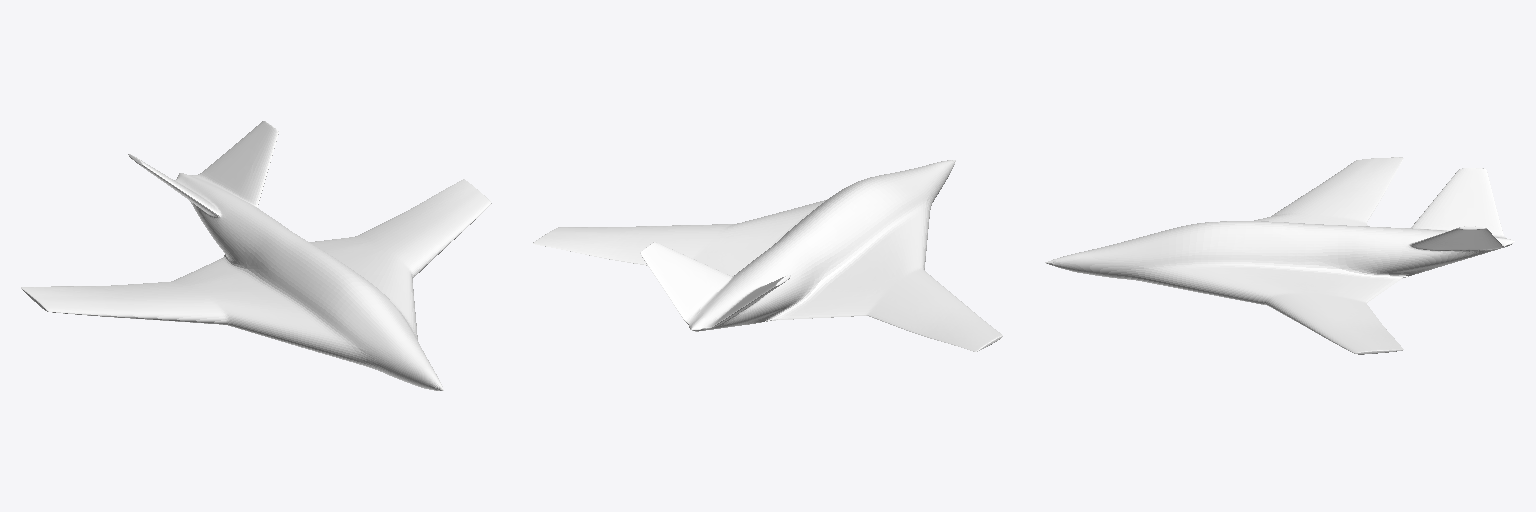
URDF robot description (mav):
<?xml version="1.0"?>
<robot name="mav">

  <material name="white">
    <color rgba="1.0 1.0 1.0 1"/>
  </material>

  <material name="blue">
    <color rgba="0.0 0.0 0.8 1"/>
  </material>

  <link name="base_link">
    <visual>
      <geometry>
        <mesh filename="package://mav_description/meshes/mav.stl" scale=".05 .05 .05"/>
      </geometry>
      <origin xyz="0.0 -.15 0.0"/>
      <material name="white"/>
    </visual>
  </link>

</robot>

--- Facts derived from the render (not from the file) ---
3 views of the same robot in one strip: view 1: azimuth 30°, elevation 25°; view 2: azimuth 150°, elevation 25°; view 3: azimuth 270°, elevation 25° (orthographic).
Model mav with 1 links and 0 joints (none), rooted at base_link, posed every joint at zero.
Links seen in each view (by area): view 1: base_link; view 2: base_link; view 3: base_link.
Link boxes in pixels (x1,y1,x2,y2): base_link: (21, 121, 491, 390); base_link: (533, 160, 1002, 351); base_link: (1045, 157, 1514, 354).
Bounding box of the posed robot: 0.9262 × 0.9556 × 0.1769 m (x, y, z).
1 mesh visuals loaded from 1 distinct referenced files (1 binary STL).